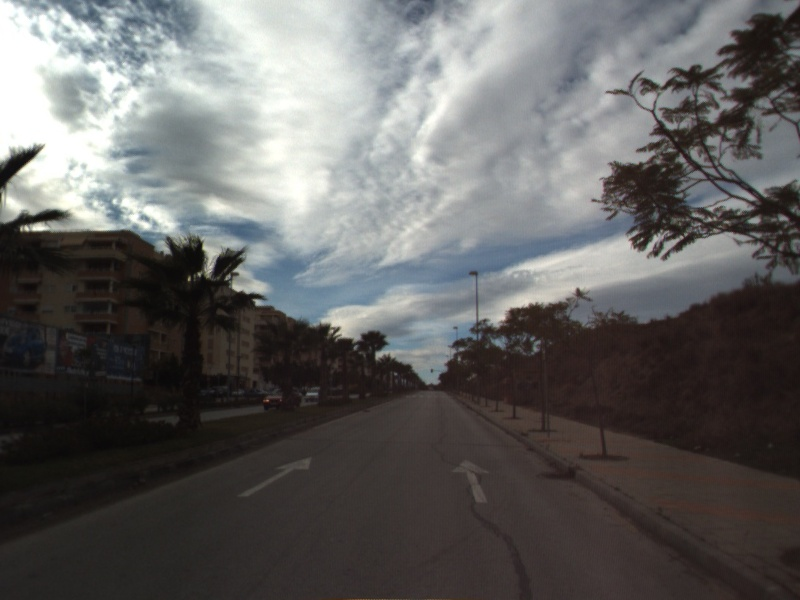STRAIGHT: (236, 454, 314, 499), (449, 457, 492, 505)
